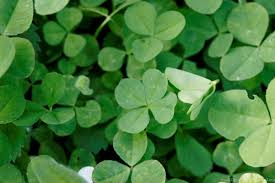4-clover: (115, 69, 174, 130)
